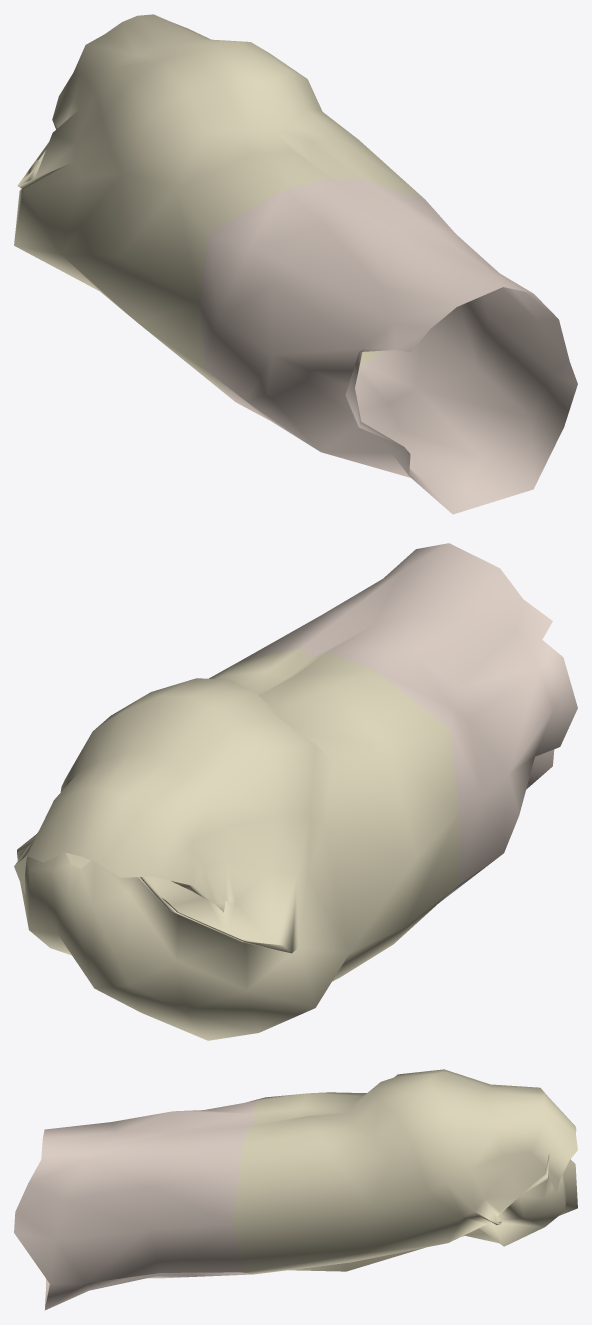
Rendered from LoArm.R.dae.
The picture shows the model from 3 angles, top to bottom: view 1: azimuth 30°, elevation 25°; view 2: azimuth 150°, elevation 25°; view 3: azimuth 270°, elevation 25°; orthographic projection. The views are drawn at different scales.
Parts seen in each view (by area): view 1: LoArm_R; view 2: LoArm_R; view 3: LoArm_R.
Part boxes in pixels (x1,y1,x2,y2): LoArm_R: (14, 14, 577, 514); LoArm_R: (14, 543, 577, 1040); LoArm_R: (14, 1069, 577, 1310).
Size of the model in its own units: 0.115 by 0.2884 by 0.1197.
